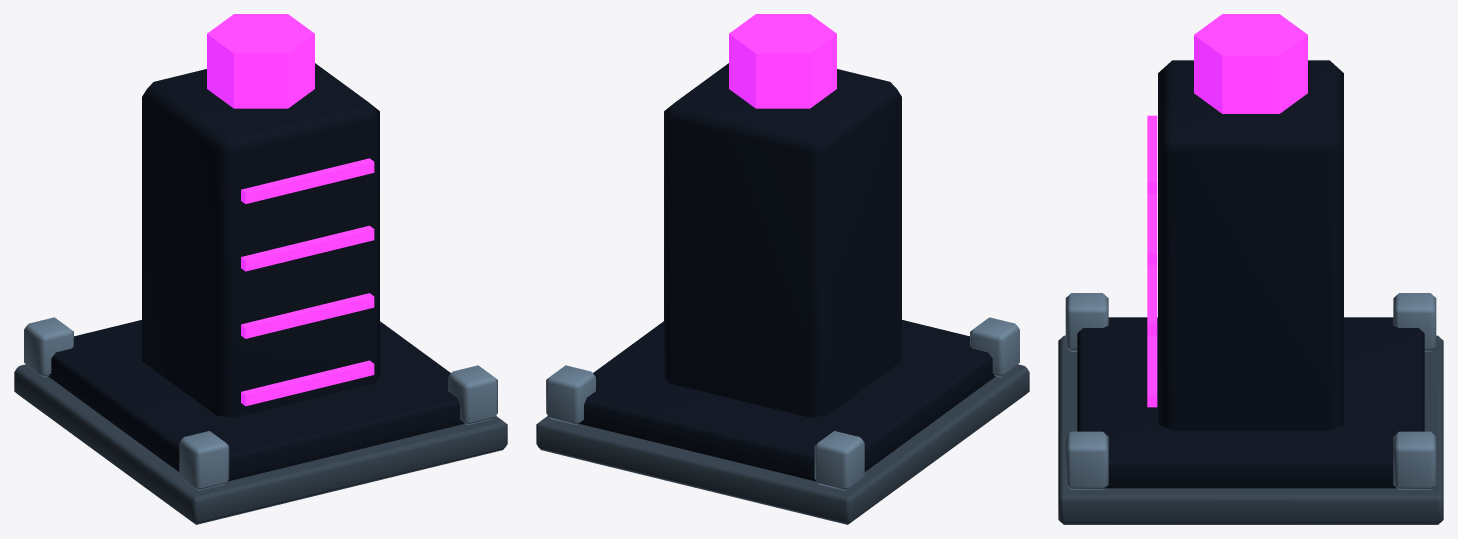
File: archive.glb
3 renders of one model, left to right at view 1: azimuth 30°, elevation 25°; view 2: azimuth 150°, elevation 25°; view 3: azimuth 270°, elevation 25°, orthographic. The views are drawn at different scales.
Visible parts, largest first — view 1: Archive shell, Undercarriage, Foundation, Archive beacon, Corner lock.001, Corner lock.003, Repository slot.002, Repository slot, Repository slot.003, Repository slot.001, Corner lock; view 2: Archive shell, Undercarriage, Foundation, Archive beacon, Corner lock, Corner lock.002, Corner lock.001; view 3: Archive shell, Undercarriage, Foundation, Archive beacon, Corner lock.002, Corner lock.003, Corner lock, Corner lock.001, Repository slot.003, Repository slot, Repository slot.002, Repository slot.001.
Boxes of the visible parts, left/top/right/bottom form: Archive shell: left=142, top=63, right=379, bottom=417; Undercarriage: left=48, top=320, right=464, bottom=481; Foundation: left=14, top=364, right=507, bottom=524; Archive beacon: left=207, top=14, right=314, bottom=108; Corner lock.001: left=179, top=431, right=229, bottom=490; Corner lock.003: left=448, top=365, right=497, bottom=425; Repository slot.002: left=241, top=225, right=374, bottom=271; Repository slot: left=241, top=360, right=374, bottom=406; Repository slot.003: left=241, top=158, right=374, bottom=203; Repository slot.001: left=241, top=293, right=374, bottom=338; Corner lock: left=24, top=317, right=73, bottom=377; Archive shell: left=664, top=63, right=901, bottom=417; Undercarriage: left=579, top=320, right=995, bottom=481; Foundation: left=536, top=364, right=1029, bottom=524; Archive beacon: left=729, top=14, right=836, bottom=108; Corner lock: left=814, top=431, right=864, bottom=490; Corner lock.002: left=546, top=365, right=595, bottom=425; Corner lock.001: left=970, top=317, right=1019, bottom=377; Archive shell: left=1158, top=60, right=1343, bottom=430; Undercarriage: left=1077, top=317, right=1424, bottom=488; Foundation: left=1058, top=335, right=1443, bottom=524; Archive beacon: left=1194, top=14, right=1307, bottom=113; Corner lock.002: left=1393, top=431, right=1436, bottom=489; Corner lock.003: left=1065, top=431, right=1108, bottom=489; Corner lock: left=1393, top=293, right=1436, bottom=351; Corner lock.001: left=1065, top=293, right=1108, bottom=351; Repository slot.003: left=1147, top=115, right=1157, bottom=193; Repository slot: left=1147, top=336, right=1157, bottom=407; Repository slot.002: left=1147, top=193, right=1157, bottom=264; Repository slot.001: left=1147, top=265, right=1157, bottom=335.
Size of the model in its own units: 2.7 by 3.18 by 2.7.
